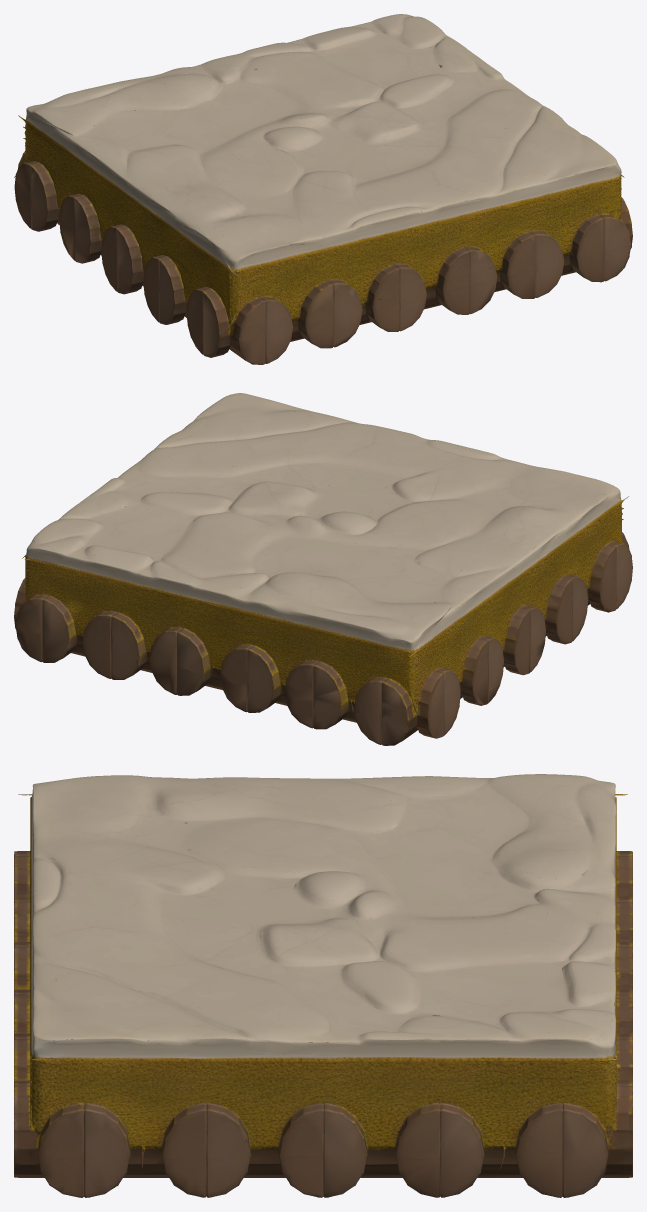
Rendered from rood_opt.glb.
3 renders of one model, top to bottom at view 1: azimuth 30°, elevation 25°; view 2: azimuth 150°, elevation 25°; view 3: azimuth 270°, elevation 25°, orthographic. The views are drawn at different scales.
Visible parts, largest first — view 1: material; view 2: material; view 3: material.
Part boxes in pixels (left/top/right/bottom): material: left=14, top=14, right=632, bottom=364; material: left=14, top=393, right=632, bottom=745; material: left=14, top=774, right=632, bottom=1197.
Size of the model in its own units: 0.8964 by 0.238 by 0.8356.
Materials: 1 (1 with a texture image).
